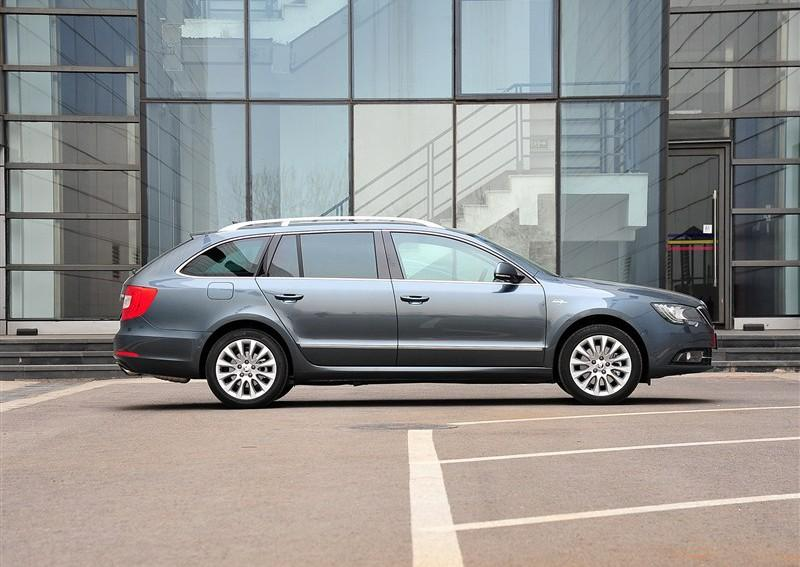Wagon: (109, 214, 719, 409)
